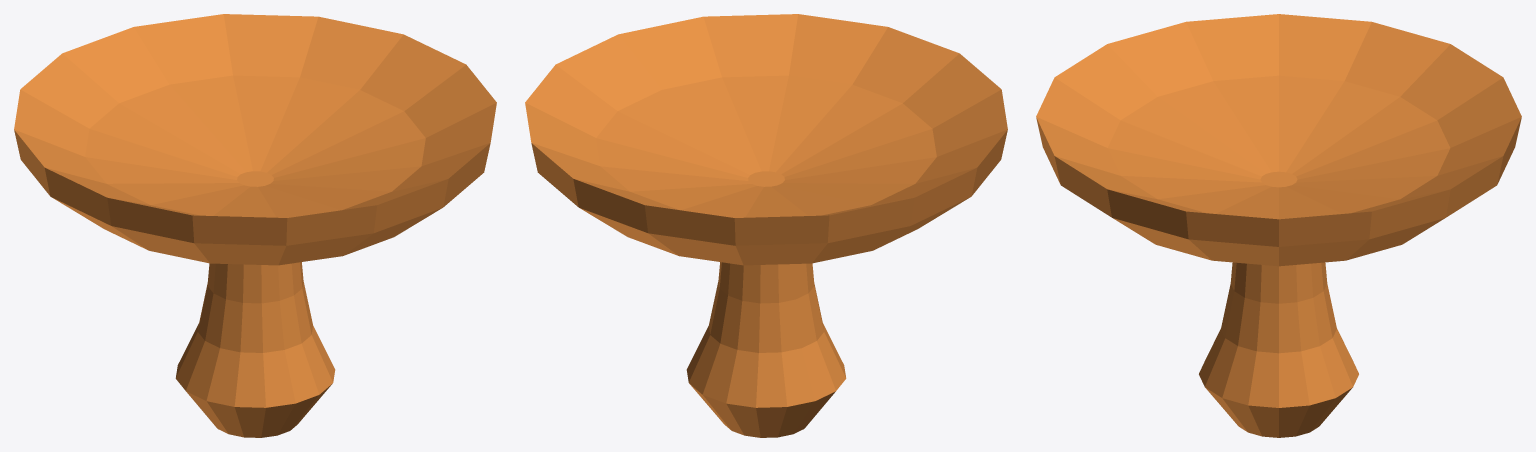
File: Mushroom_003.fbx
3 views of the same model, side by side, from view 1: azimuth 30°, elevation 25°; view 2: azimuth 150°, elevation 25°; view 3: azimuth 270°, elevation 25° (orthographic).
Parts seen in each view (by area): view 1: mushroom_003; view 2: mushroom_003; view 3: mushroom_003.
Part boxes in pixels (bbox=[...]): mushroom_003: bbox=[14, 14, 496, 437]; mushroom_003: bbox=[525, 14, 1007, 437]; mushroom_003: bbox=[1036, 14, 1521, 437].
Bounding box in the file's own units: 36.38 × 25.02 × 36.38.
